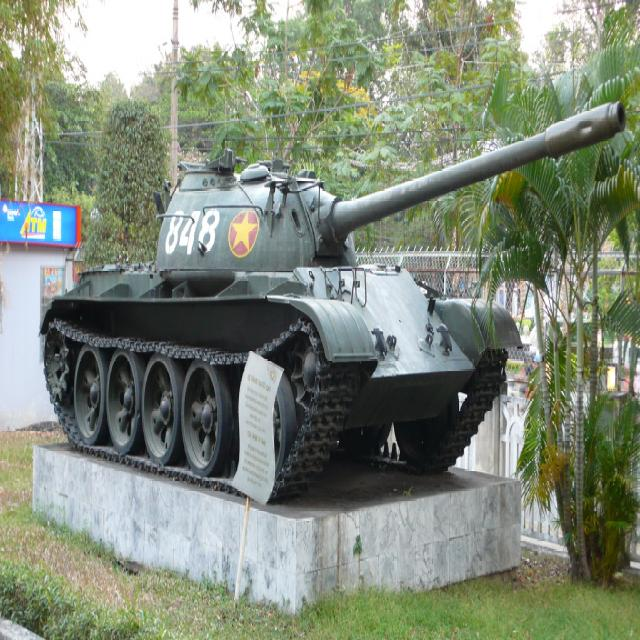tank: (37, 97, 627, 503)
